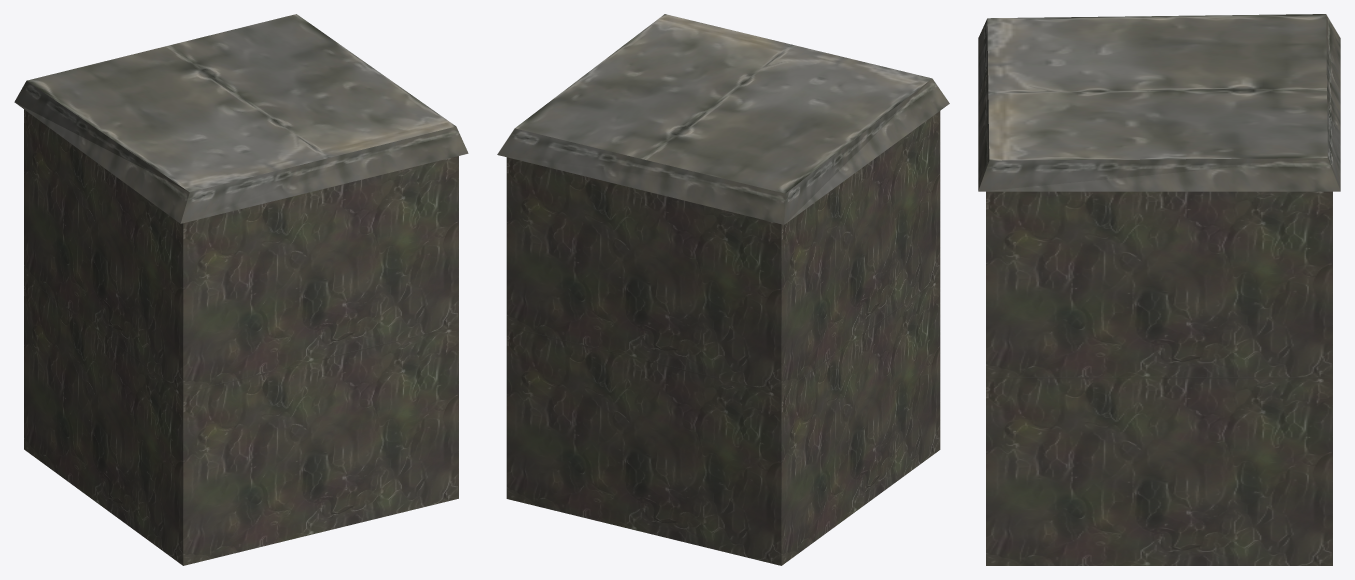
Rendered from Wall_block.obj.
3 renders of one model, left to right at view 1: azimuth 30°, elevation 25°; view 2: azimuth 150°, elevation 25°; view 3: azimuth 270°, elevation 25°, orthographic. The views are drawn at different scales.
Parts seen in each view (by area): view 1: Wall_block; view 2: Wall_block; view 3: Wall_block.
Boxes of the visible parts, box(x1,y1,x2,y2) form: Wall_block: box(14, 14, 468, 565); Wall_block: box(497, 14, 949, 565); Wall_block: box(978, 14, 1340, 565).
Bounding box in the file's own units: 10.45 × 12.87 × 10.45.
